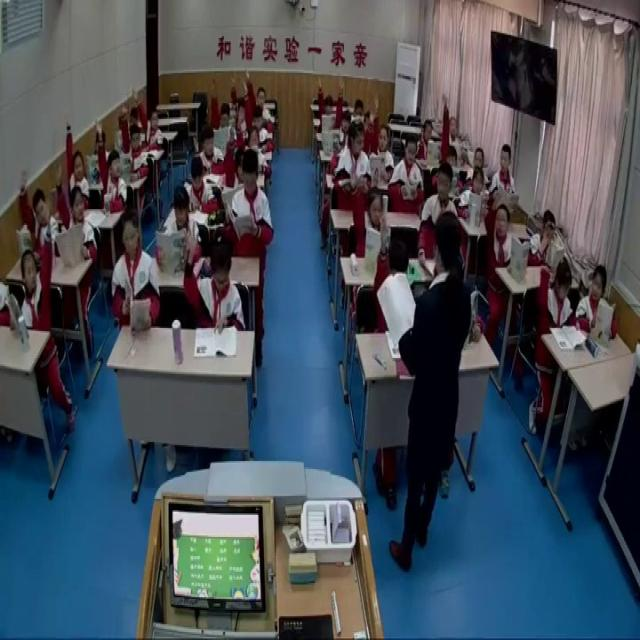distracted: (577, 262, 619, 343), (458, 164, 494, 224), (466, 147, 490, 191)
focused: (108, 214, 162, 336), (418, 158, 462, 270), (230, 150, 274, 258), (332, 121, 380, 214), (158, 188, 205, 270), (390, 135, 426, 214), (528, 208, 565, 269), (183, 153, 218, 215), (492, 143, 520, 214), (197, 129, 230, 176)
raising_hand: (182, 223, 247, 330), (14, 206, 52, 334), (375, 212, 411, 342), (54, 161, 99, 263), (18, 168, 59, 264), (349, 159, 388, 259), (232, 96, 273, 178), (96, 119, 129, 214), (484, 186, 520, 272), (540, 249, 577, 332), (239, 76, 276, 155), (64, 114, 90, 208), (132, 86, 166, 156), (120, 98, 148, 182), (209, 77, 238, 150), (372, 94, 396, 178), (245, 67, 276, 132), (222, 123, 249, 191), (439, 91, 463, 166), (315, 73, 338, 139), (334, 77, 355, 148), (416, 118, 439, 162), (228, 66, 244, 117)
